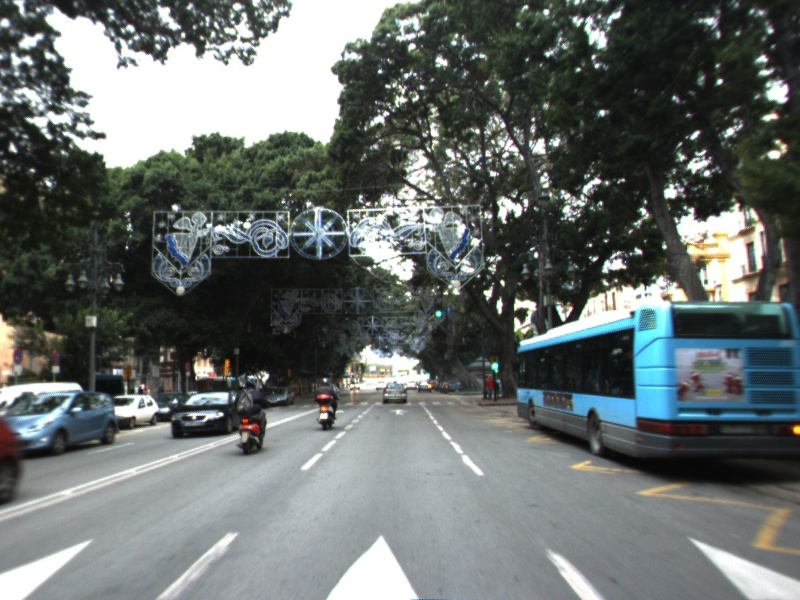STRAIGHT: (387, 407, 411, 417)
